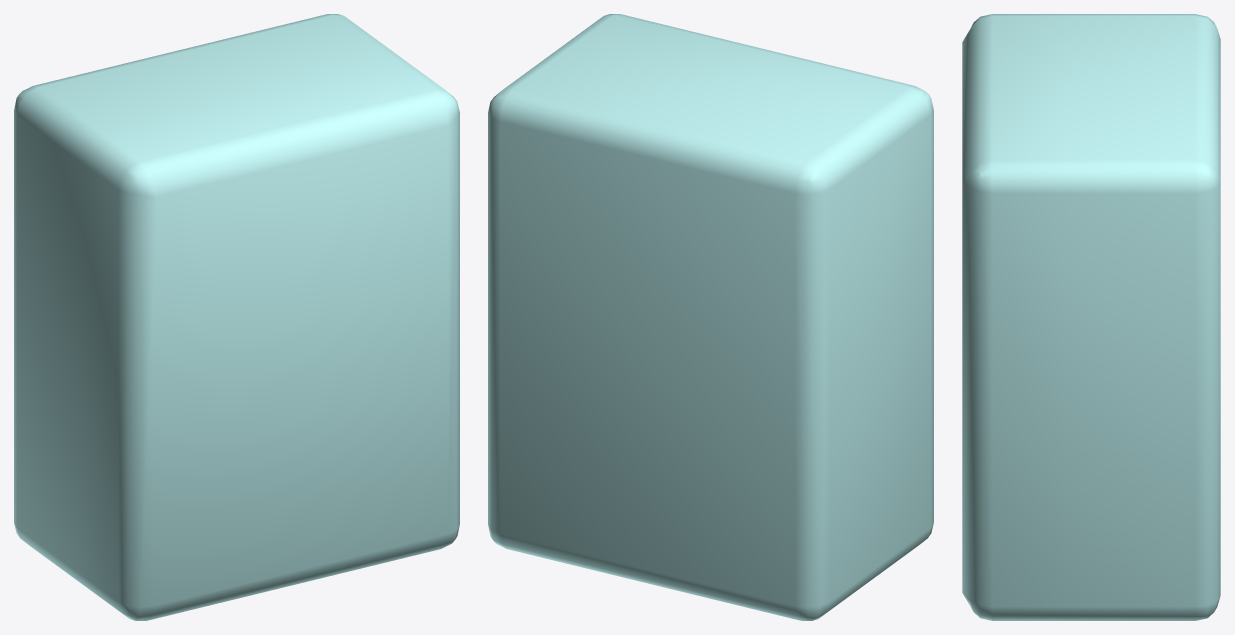
Rendered from landi.FBX.
3 views of the same model, side by side, from view 1: azimuth 30°, elevation 25°; view 2: azimuth 150°, elevation 25°; view 3: azimuth 270°, elevation 25° (orthographic).
Visible parts, largest first — view 1: pCube8; view 2: pCube8; view 3: pCube8.
Part boxes in pixels (<box>): pCube8: <box>14,14,459,620</box>; pCube8: <box>488,14,933,620</box>; pCube8: <box>962,14,1220,620</box>.
Bounding box in the file's own units: 0.8029 × 1.04 × 0.5301.
Materials: 1 (1 with a texture image).
